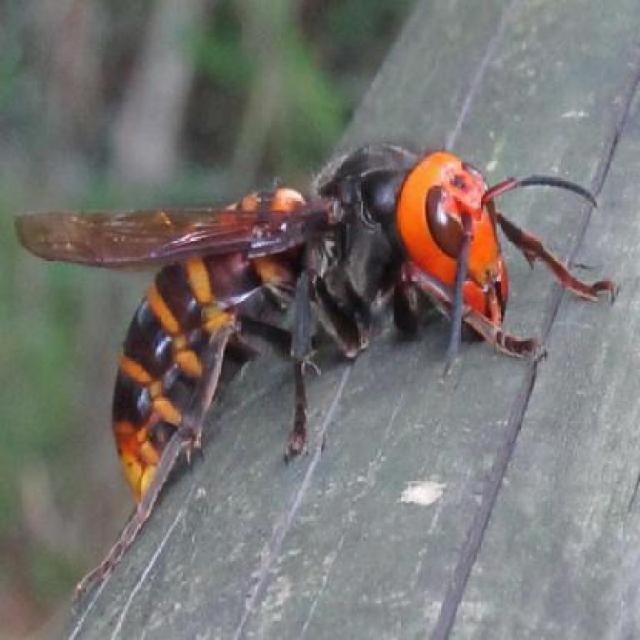Wasp: (11, 128, 624, 530)
